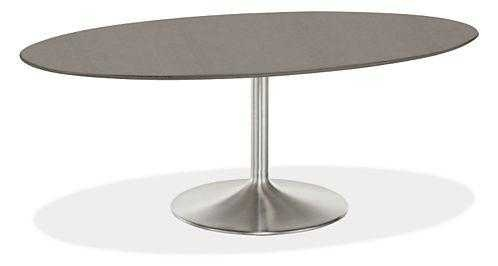obstacle: (20, 12, 477, 234)
